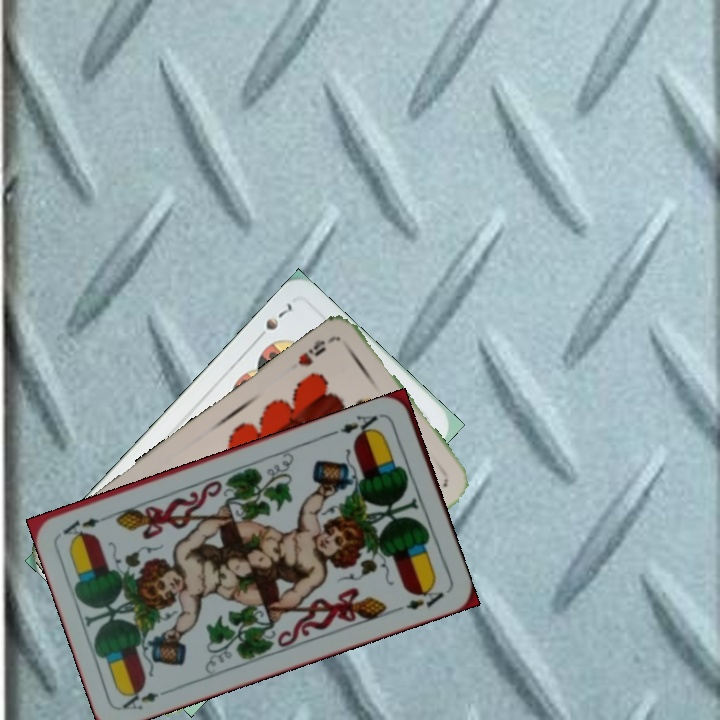EA: (329, 409, 386, 442), (118, 683, 175, 713)
H9: (293, 333, 337, 369)
S7: (251, 299, 295, 345)
